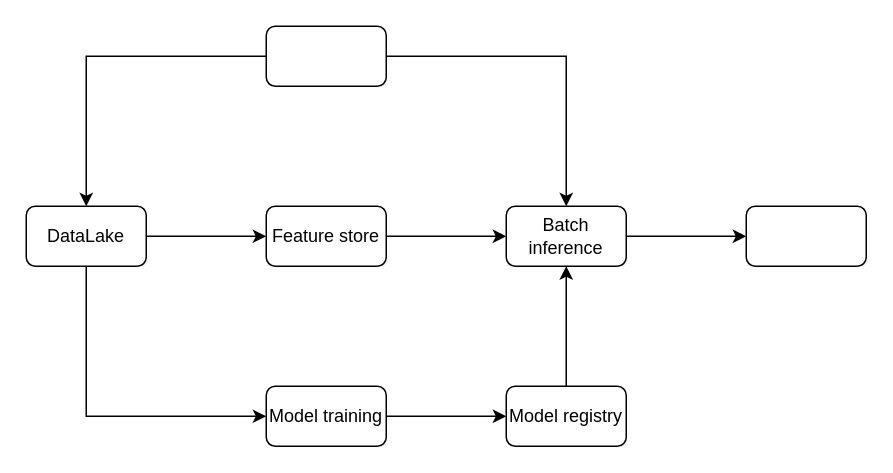
Image size: 893x473. Some labels were removed from this diagram. The shapes that lost their labels are listed below. From the top down, each one's box as (x1, y1, x2, y2) in pixels, then its label:
(265, 25, 386, 86): Check DB
(745, 205, 866, 266): Score
